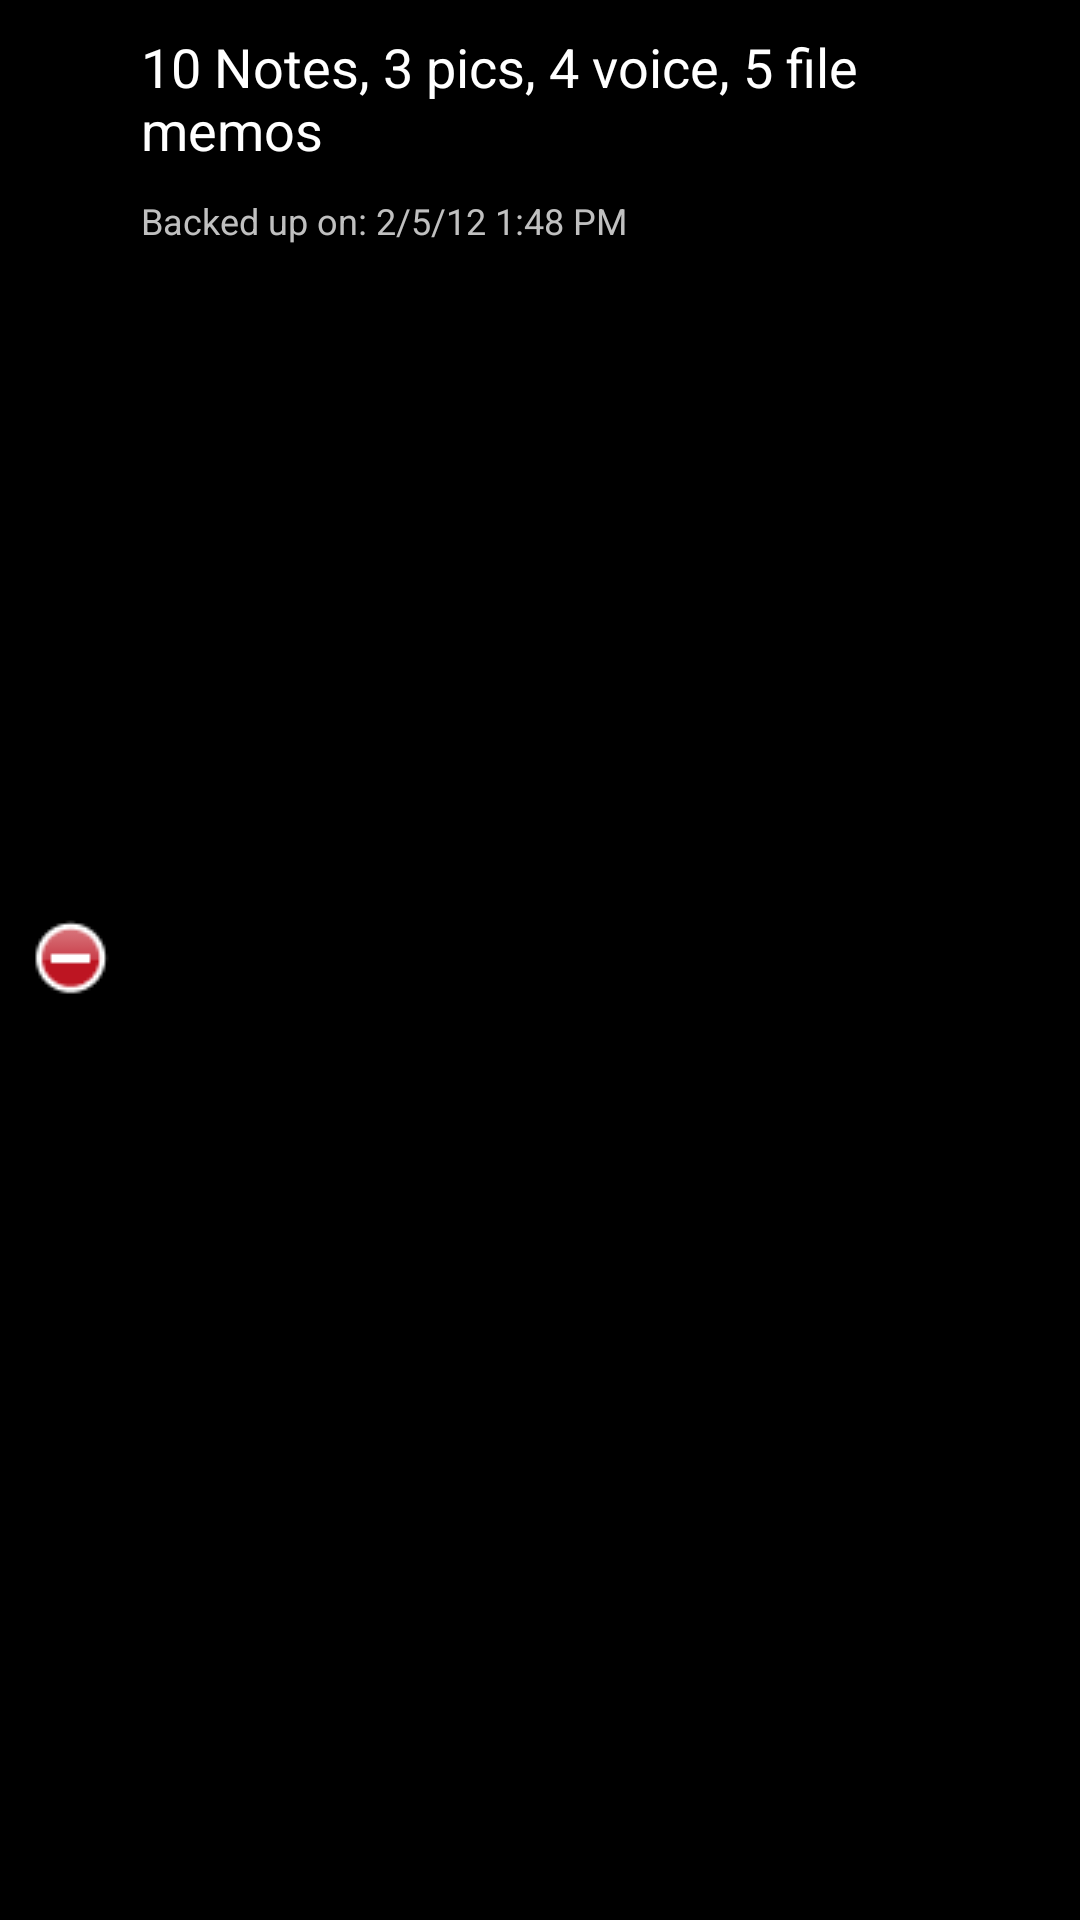

Where icons sit on this 1080x1920 app screen, as rect(x1, y1, x2, y2):
minus: rect(35, 921, 107, 994)
